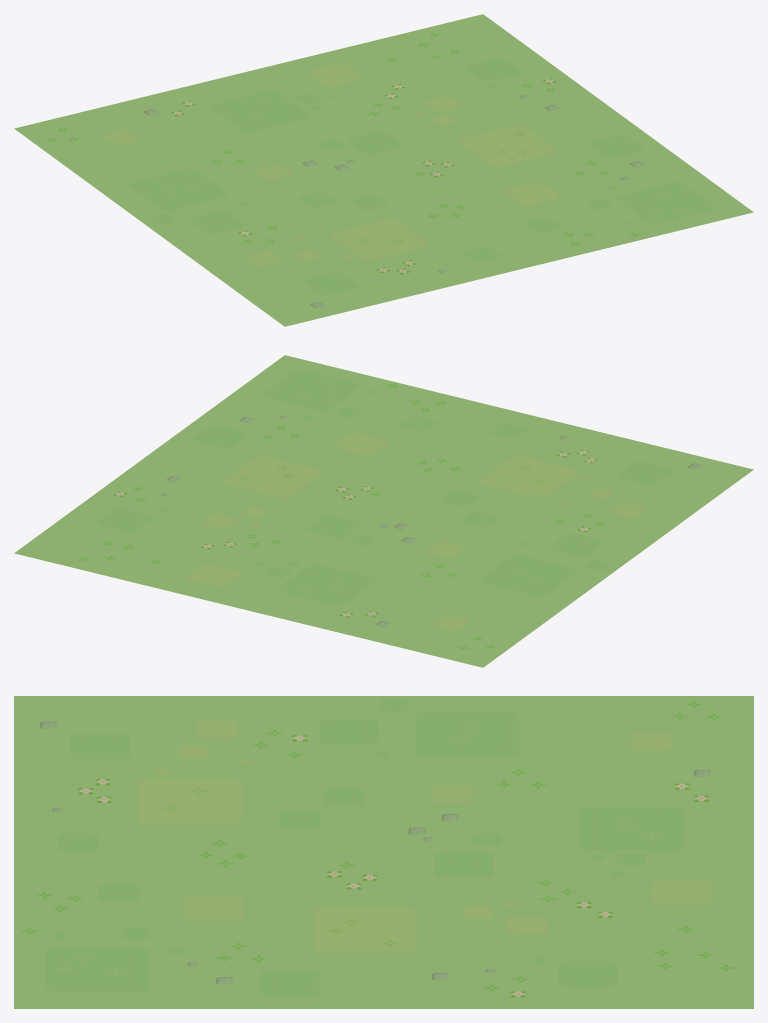
The model's file is C_grass1_01.fbx.
3 views of the same model, one above another, from view 1: azimuth 30°, elevation 25°; view 2: azimuth 150°, elevation 25°; view 3: azimuth 270°, elevation 25° (orthographic). The views are drawn at different scales.
Visible parts, largest first — view 1: C_grass1_01; view 2: C_grass1_01; view 3: C_grass1_01.
Boxes of the visible parts, x1,y1,x2,y2 form: C_grass1_01: (14, 14, 753, 326); C_grass1_01: (14, 355, 753, 667); C_grass1_01: (14, 696, 753, 1008).
Bounding box in the file's own units: 50 × 0.1888 × 50.
